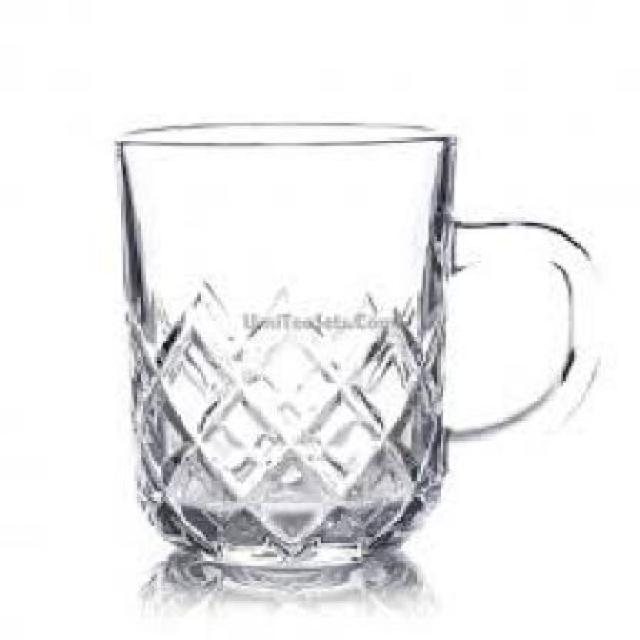kaca: (111, 123, 600, 568)
